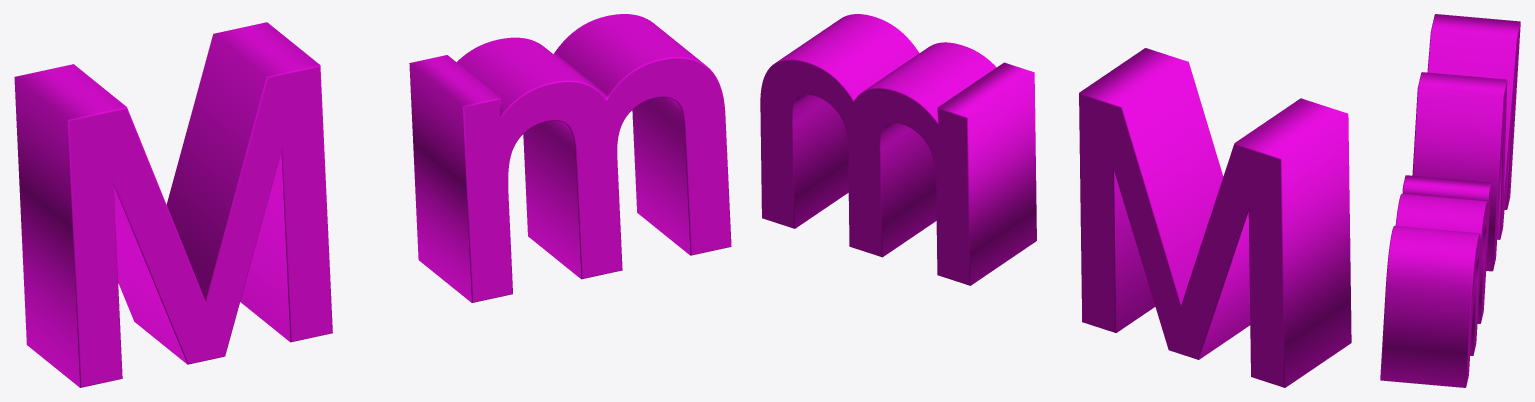
Rendered from ObjectM.fbx.
3 views of the same model, side by side, from view 1: azimuth 30°, elevation 25°; view 2: azimuth 150°, elevation 25°; view 3: azimuth 270°, elevation 25° (orthographic). The views are drawn at different scales.
Visible parts, largest first — view 1: Text; view 2: Text; view 3: Text.
Part boxes in pixels (bbox=[...]): Text: bbox=[14, 14, 731, 387]; Text: bbox=[760, 14, 1351, 387]; Text: bbox=[1380, 14, 1520, 387].
Bounding box in the file's own units: 344 × 143 × 99.62.
